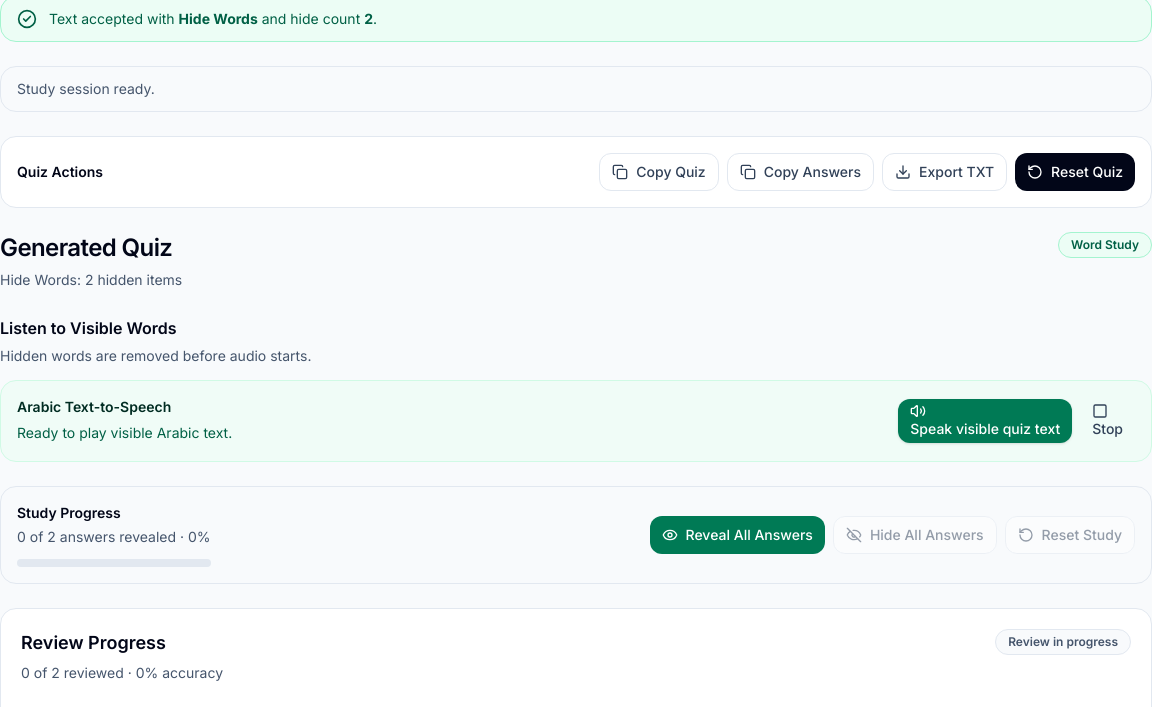
GeneratedQuizPreview Arabic reading UX › reveals all Arabic answers
This screenshot has width=1152, height=707.
Step 1. Click the button "Reveal All Answers" → {"x": 737, "y": 535}, box [650,516,825,554]
(page scrolled)
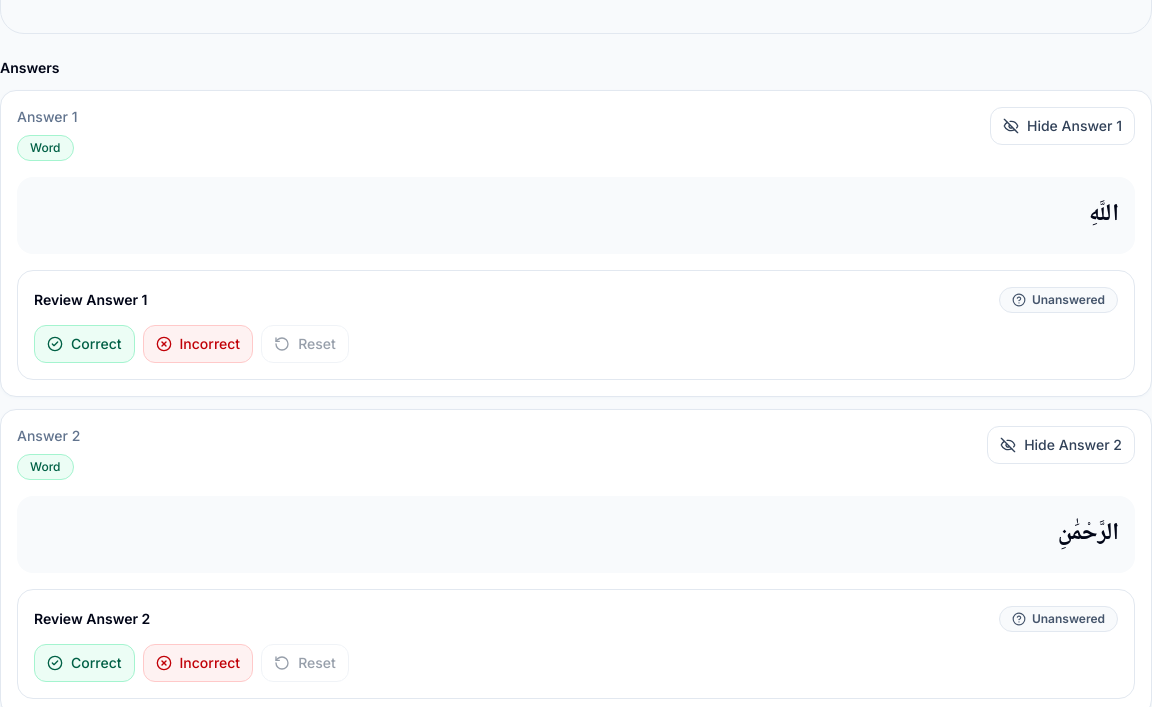
Check: the text with test id "answer-display-1" reads "اللَّهِ", box [1089,194,1119,235]
Check: the text with test id "answer-display-2" reads "الرَّحْمَٰنِ", box [1058,513,1119,554]
